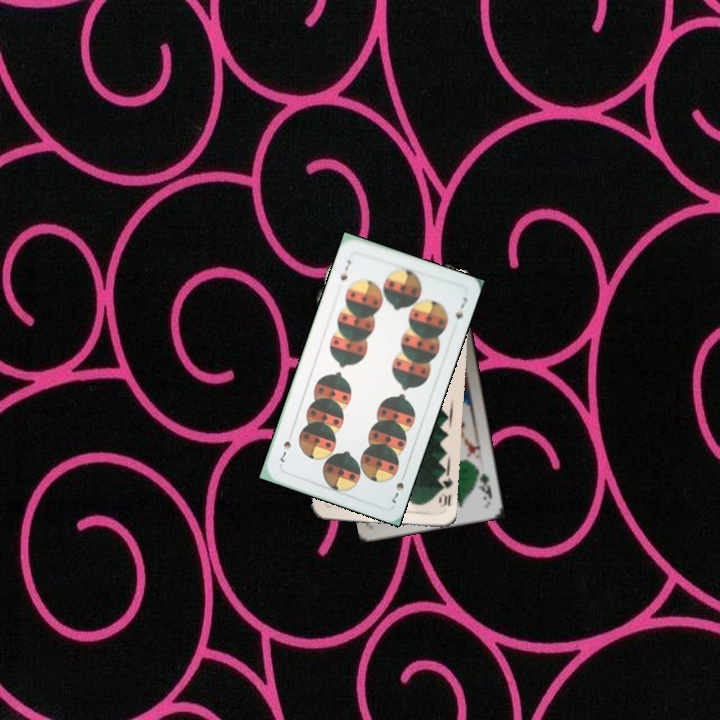G10: (434, 471, 455, 509)
GK: (472, 465, 495, 503)
S7: (388, 468, 408, 506), (336, 255, 354, 283)
